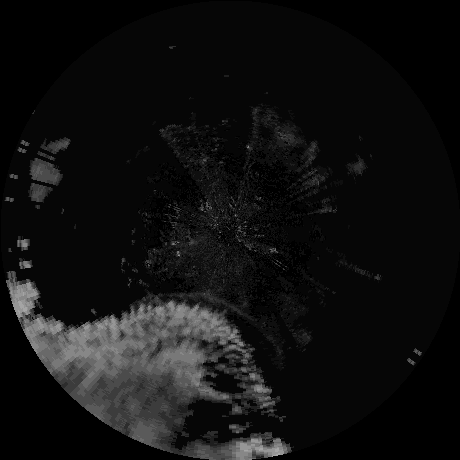frontgust: (155, 289, 257, 321)
